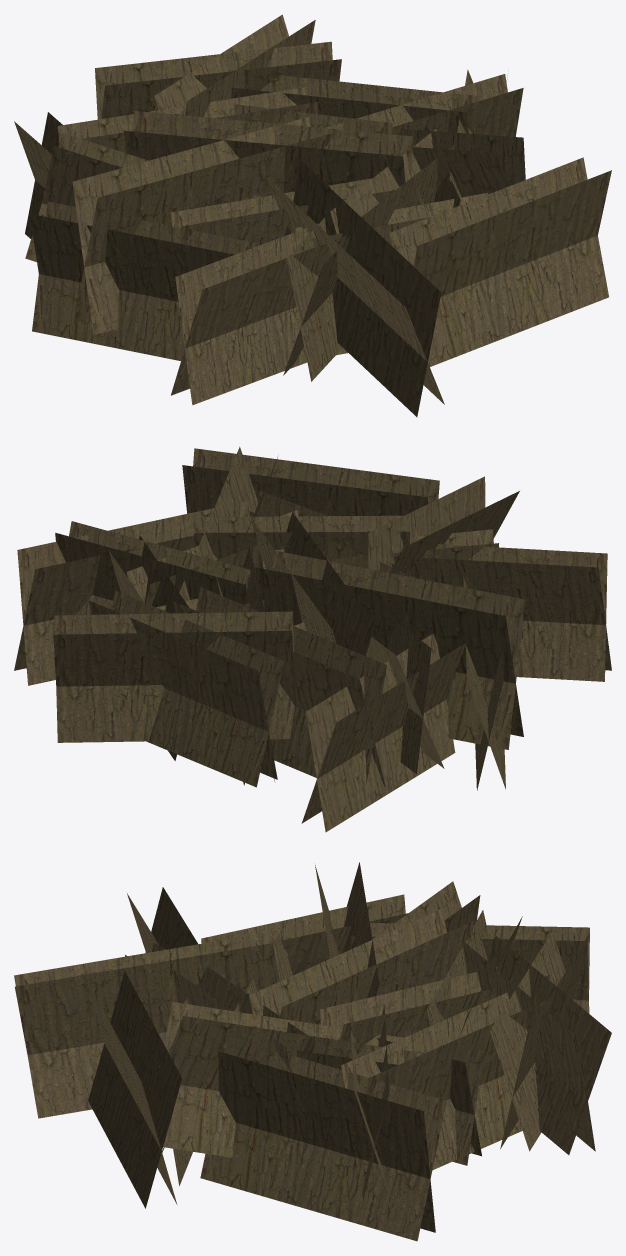
The model's file is grass.gltf.
The picture shows the model from 3 angles, top to bottom: view 1: azimuth 30°, elevation 25°; view 2: azimuth 150°, elevation 25°; view 3: azimuth 270°, elevation 25°; orthographic projection. The views are drawn at different scales.
Visible parts, largest first — view 1: Plane.026; view 2: Plane.026; view 3: Plane.026.
Part boxes in pixels (box(x1,y1,x2,y2)): Plane.026: box(14, 14, 611, 417); Plane.026: box(14, 446, 611, 832); Plane.026: box(14, 862, 611, 1241).
Size of the model in its own units: 3.6 by 1.32 by 3.78.
